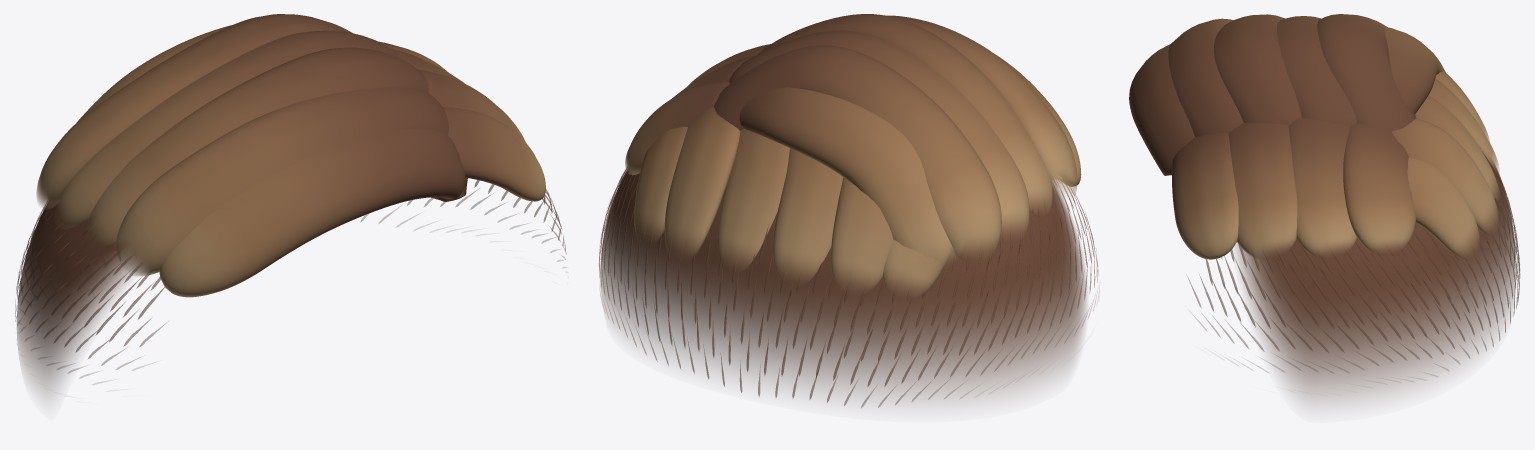
The model's file is Masculine-taper-ears259-hair-ombre.glb.
The picture shows the model from 3 angles, left to right: view 1: azimuth 30°, elevation 25°; view 2: azimuth 150°, elevation 25°; view 3: azimuth 270°, elevation 25°; orthographic projection. The views are drawn at different scales.
Visible parts, largest first — view 1: 226 hair / Hair258 / sculpted side sweep 1, 226 hair / Hair258 / sculpted side sweep 0, 226 hair / Hair258 / sculpted side sweep 2, 226 hair / Hair258 / smooth side fade, 226 hair / Hair259 / directional fade marks214; view 2: 226 hair / Hair258 / smooth side fade, 226 hair / Hair258 / sculpted side sweep 0, 226 hair / Hair258 / sculpted side sweep 1, 226 hair / Hair258 / sculpted side sweep 2, 226 hair / Hair259 / directional fade marks214; view 3: 226 hair / Hair258 / smooth side fade, 226 hair / Hair258 / sculpted side sweep 0, 226 hair / Hair258 / sculpted side sweep 1, 226 hair / Hair258 / sculpted side sweep 2, 226 hair / Hair259 / directional fade marks214.
Part boxes in pixels (x1,y1,x2,y2): 226 hair / Hair258 / sculpted side sweep 1: (56,30,545,297); 226 hair / Hair258 / sculpted side sweep 0: (36,14,525,276); 226 hair / Hair258 / sculpted side sweep 2: (87,47,464,245); 226 hair / Hair258 / smooth side fade: (17,197,545,397); 226 hair / Hair259 / directional fade marks214: (15,180,566,384); 226 hair / Hair258 / smooth side fade: (600,169,1086,402); 226 hair / Hair258 / sculpted side sweep 0: (664,15,1077,293); 226 hair / Hair258 / sculpted side sweep 1: (625,30,1081,297); 226 hair / Hair258 / sculpted side sweep 2: (634,14,1052,283); 226 hair / Hair259 / directional fade marks214: (599,167,1099,407); 226 hair / Hair258 / smooth side fade: (1235,151,1516,403); 226 hair / Hair258 / sculpted side sweep 0: (1168,14,1498,259); 226 hair / Hair258 / sculpted side sweep 1: (1129,16,1499,259); 226 hair / Hair258 / sculpted side sweep 2: (1213,14,1499,259); 226 hair / Hair259 / directional fade marks214: (1188,148,1520,380).
Bounding box in the file's own units: 0.9743 × 0.6474 × 0.7585.
